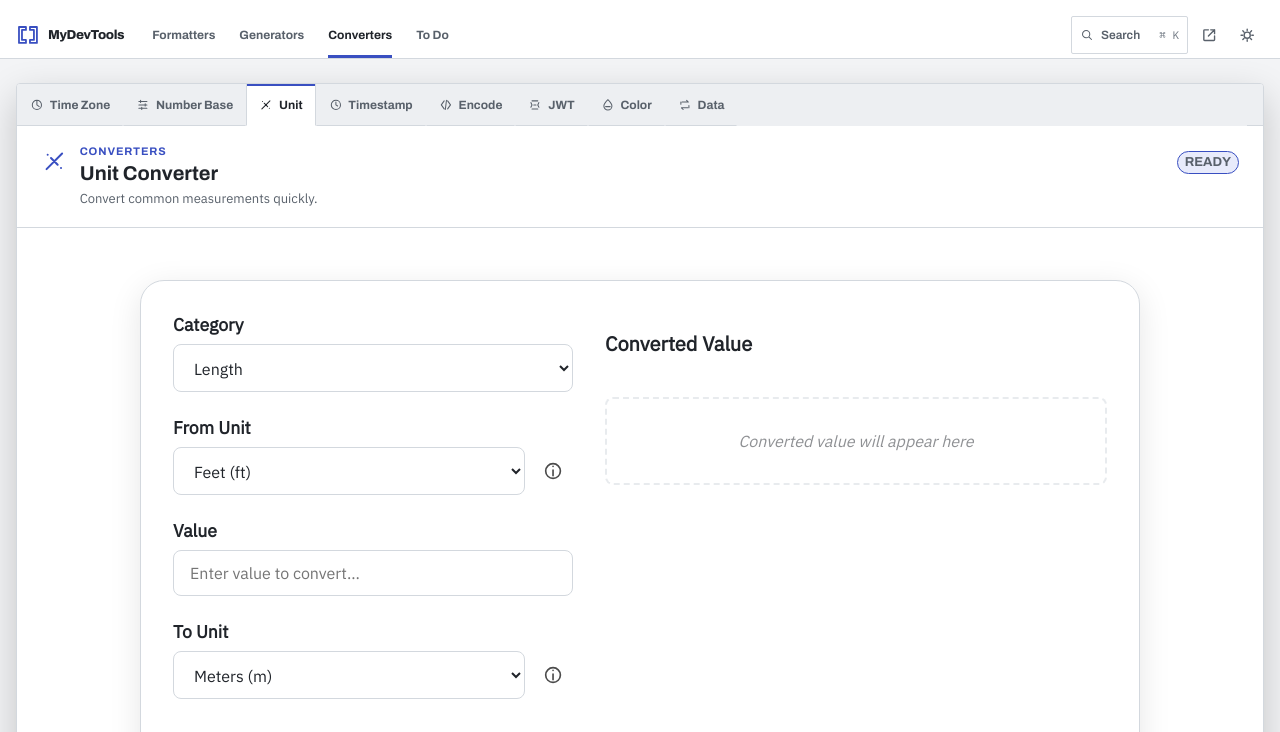
Scenario: Unit Converter Component › converts value between units
This screenshot has width=1280, height=732.
Select "Length" in the dropdown with test id "category-select" at (373, 368), box top-left (173, 344), bottom-right (573, 392)
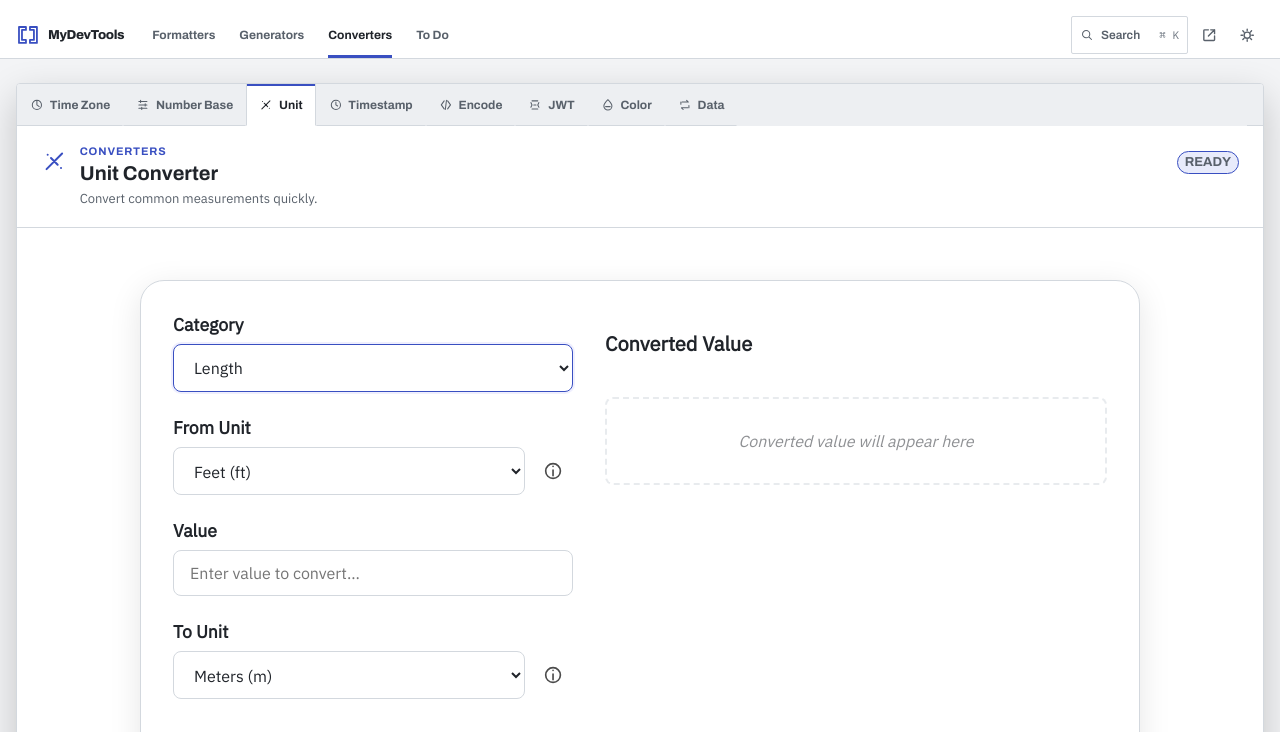
Select "Feet (ft)" in the dropdown with test id "from-unit-select" at (349, 471), box top-left (173, 447), bottom-right (525, 495)
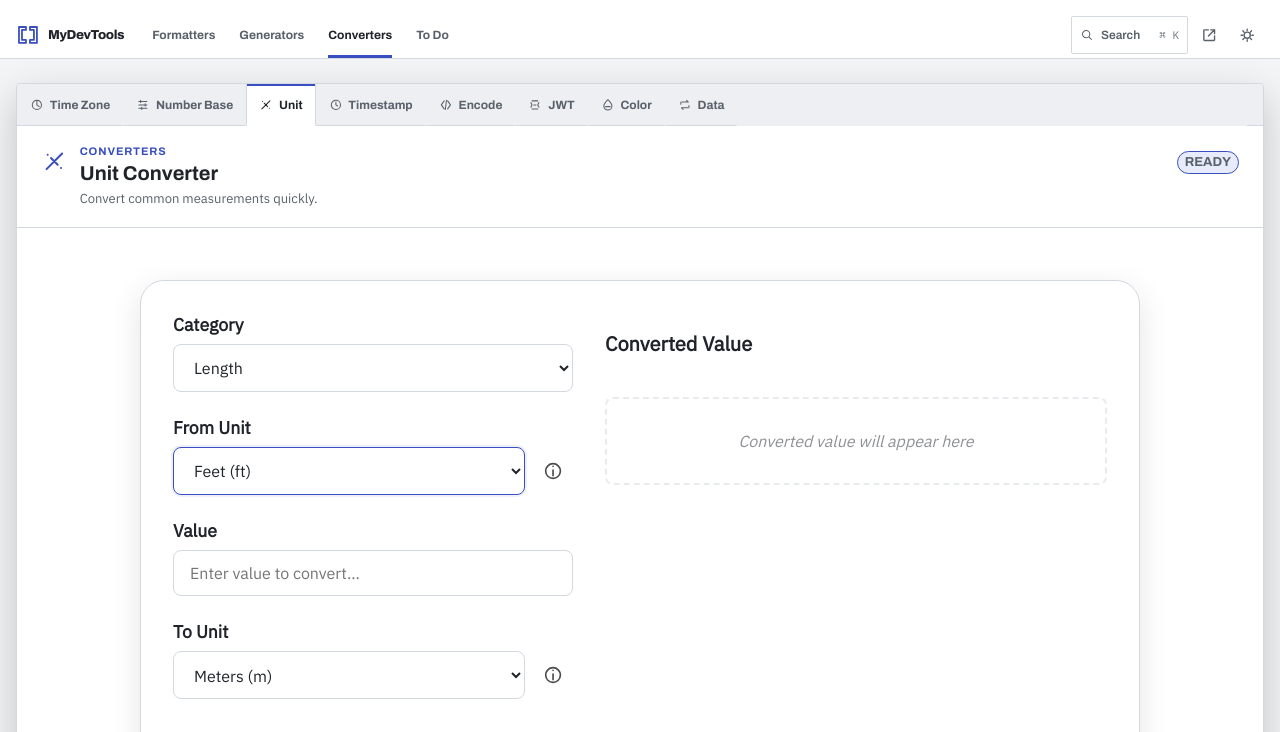
Select "Meters (m)" in the dropdown with test id "to-unit-select" at (349, 675), box top-left (173, 651), bottom-right (525, 699)
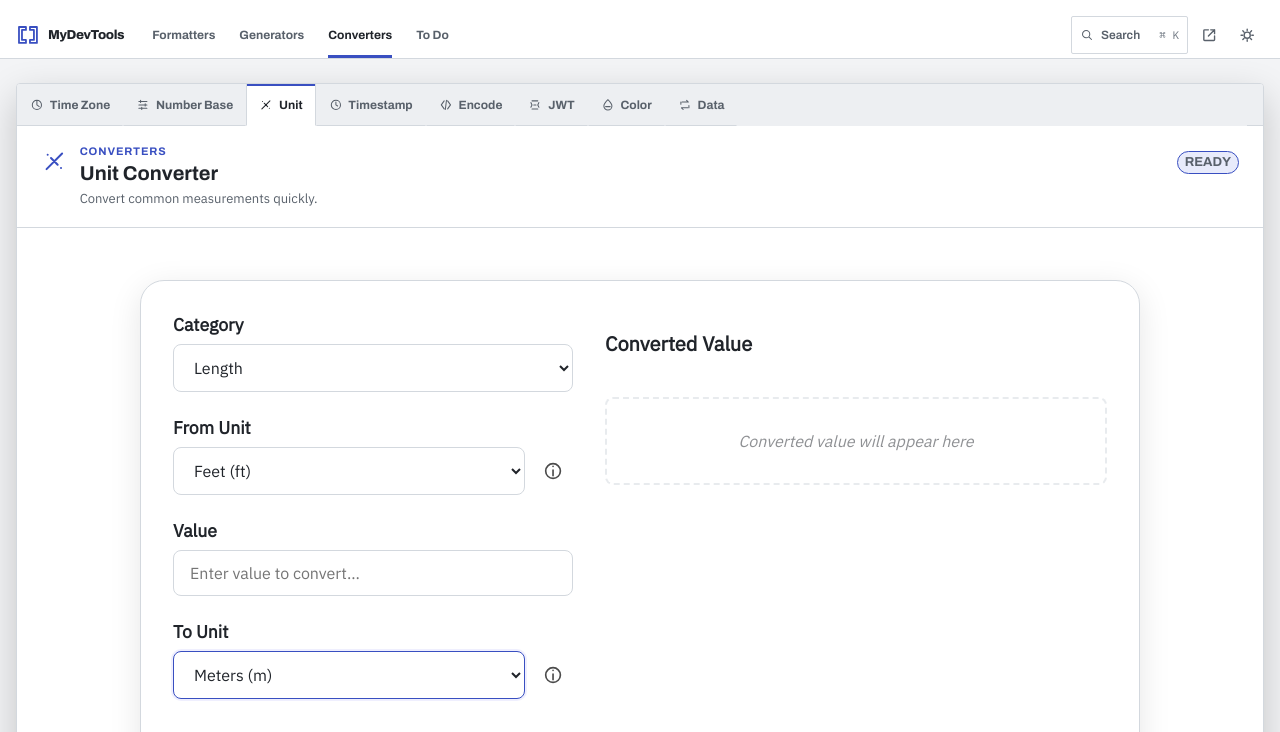
Type "10" into the number field with test id "value-input".
click(373, 573); type("10")  # box top-left (173, 550), bottom-right (573, 596)
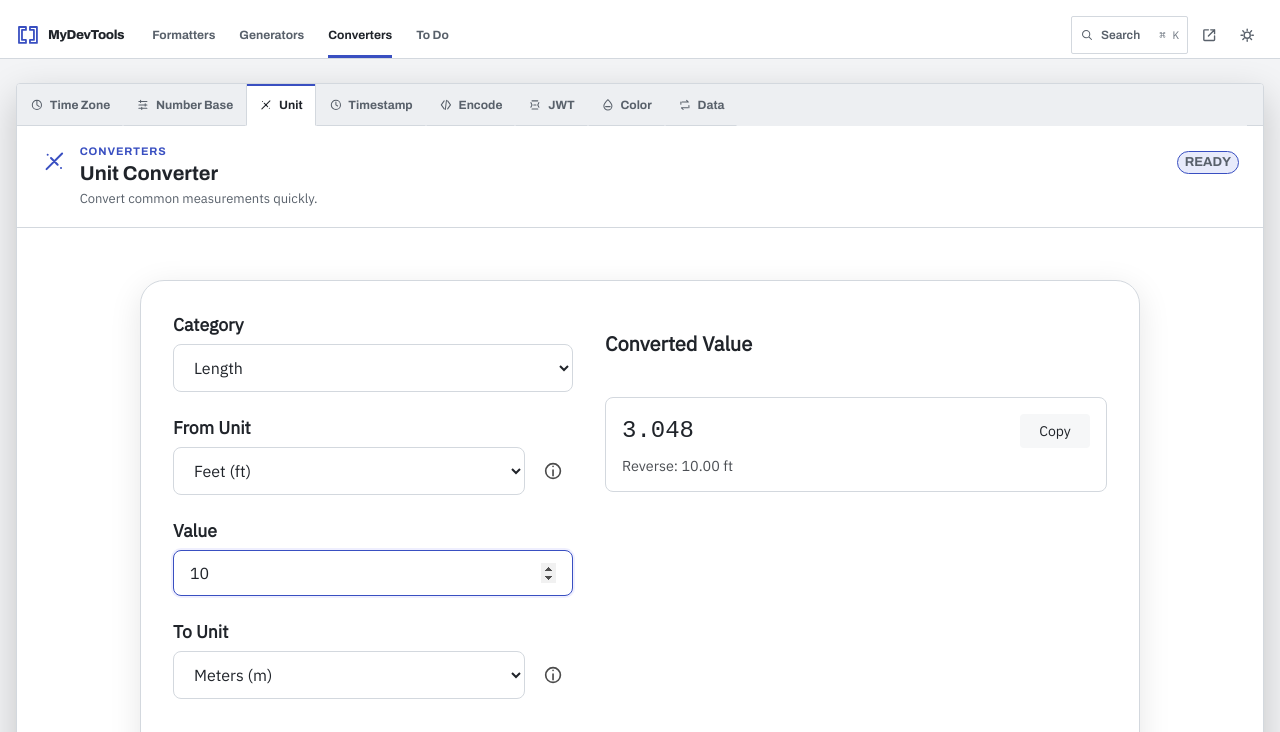
Now the element with test id "unit-output" is shown, box top-left (605, 397), bottom-right (1107, 492)
Now the text with test id "placeholder-message" is gone
